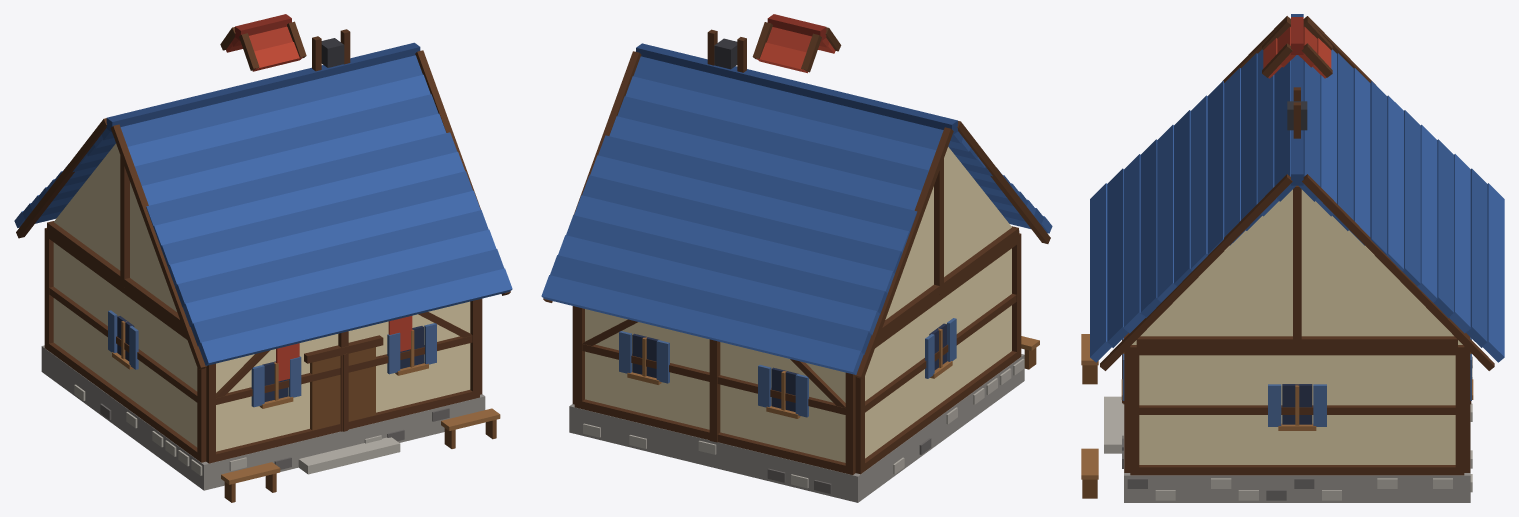
Rendered from meeting_hall.glb.
The picture shows the model from 3 angles, left to right: view 1: azimuth 30°, elevation 25°; view 2: azimuth 150°, elevation 25°; view 3: azimuth 270°, elevation 25°; orthographic projection. The views are drawn at different scales.
Parts seen in each view (by area): view 1: roof_blue, roof_blue_mid, plaster, timber, footing, plank_dark, ridge, shutter_blue, stone_light, plank, roof_red, window (+4 smaller); view 2: roof_blue, roof_blue_mid, plaster, timber, footing, ridge, shutter_blue, window, stone_light, plank, roof_red, roof_red_mid (+2 smaller); view 3: plaster, roof_blue, roof_blue_mid, timber, footing, stone_light, plank, shutter_blue, ridge, window, stone_dark, roof_red (+3 smaller).
Boxes of the visible parts, <box> form: roof_blue: <box>14,74,512,365</box>; roof_blue_mid: <box>22,55,504,346</box>; plaster: <box>53,143,470,451</box>; timber: <box>16,21,510,463</box>; footing: <box>41,345,485,490</box>; plank_dark: <box>224,347,496,502</box>; ridge: <box>106,42,420,131</box>; shutter_blue: <box>108,310,436,407</box>; stone_light: <box>74,384,400,475</box>; plank: <box>112,321,500,484</box>; roof_red: <box>226,42,412,381</box>; window: <box>117,316,423,401</box>; roof_blue: <box>541,76,1052,374</box>; roof_blue_mid: <box>550,56,1044,354</box>; plaster: <box>585,147,1011,462</box>; timber: <box>543,22,1050,474</box>; footing: <box>569,354,1024,502</box>; ridge: <box>636,43,957,135</box>; shutter_blue: <box>619,318,956,417</box>; window: <box>632,323,946,411</box>; stone_light: <box>583,358,1024,488</box>; plank: <box>627,328,1039,418</box>; roof_red: <box>756,42,835,73</box>; roof_red_mid: <box>766,27,829,52</box>; plaster: <box>1132,189,1462,464</box>; roof_blue: <box>1090,49,1504,362</box>; roof_blue_mid: <box>1107,53,1487,347</box>; timber: <box>1100,16,1494,475</box>; footing: <box>1124,404,1470,502</box>; stone_light: <box>1104,368,1472,500</box>; plank: <box>1081,334,1473,479</box>; shutter_blue: <box>1122,337,1471,426</box>; ridge: <box>1291,14,1303,185</box>; window: <box>1282,384,1312,424</box>; stone_dark: <box>1122,356,1472,500</box>; roof_red: <box>1124,38,1331,338</box>.
Size of the model in its own units: 3.03 by 3.5 by 3.36.
